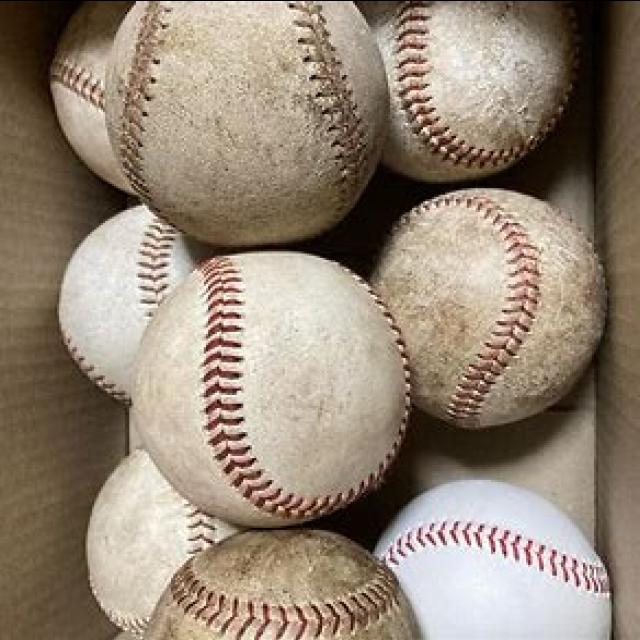ball: (128, 246, 416, 523), (370, 0, 582, 177)
